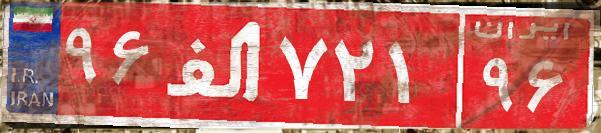1: (385, 28, 445, 110)
2: (330, 28, 385, 110)
6: (110, 28, 158, 105), (525, 38, 570, 115)
7: (273, 28, 330, 110)
9: (57, 26, 110, 107), (475, 38, 525, 113)
الف: (158, 15, 273, 115)
